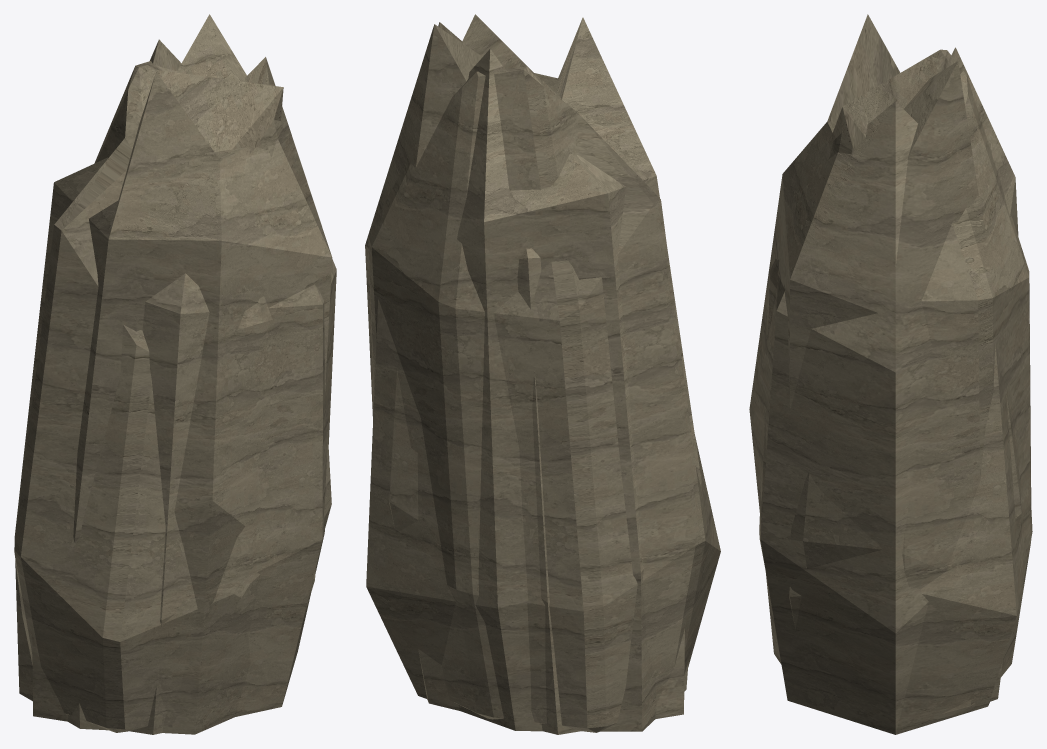
File: env_rock_slab_b_v001.glb
3 renders of one model, left to right at view 1: azimuth 30°, elevation 25°; view 2: azimuth 150°, elevation 25°; view 3: azimuth 270°, elevation 25°, orthographic. The views are drawn at different scales.
Parts seen in each view (by area): view 1: env_rock_slab_b_LOD0_mesh, env_rock_slab_b_LOD1_mesh, env_rock_slab_b_LOD2_mesh; view 2: env_rock_slab_b_LOD0_mesh, env_rock_slab_b_LOD1_mesh, env_rock_slab_b_LOD2_mesh; view 3: env_rock_slab_b_LOD2_mesh, env_rock_slab_b_LOD1_mesh, env_rock_slab_b_LOD0_mesh.
Part boxes in pixels (<box>): env_rock_slab_b_LOD0_mesh: <box>14,61,331,732</box>; env_rock_slab_b_LOD1_mesh: <box>14,39,332,734</box>; env_rock_slab_b_LOD2_mesh: <box>32,14,336,734</box>; env_rock_slab_b_LOD0_mesh: <box>368,14,720,732</box>; env_rock_slab_b_LOD1_mesh: <box>366,17,701,731</box>; env_rock_slab_b_LOD2_mesh: <box>365,24,684,734</box>; env_rock_slab_b_LOD2_mesh: <box>760,61,1021,734</box>; env_rock_slab_b_LOD1_mesh: <box>749,14,1032,734</box>; env_rock_slab_b_LOD0_mesh: <box>759,49,1031,714</box>.
Bounding box in the file's own units: 1.67 × 3.14 × 1.25.
3 materials, 3 textured.
